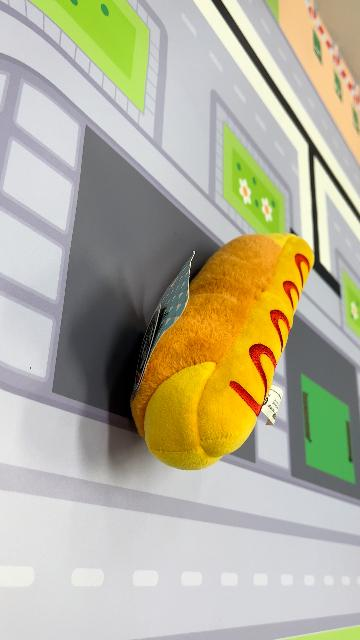hotdog: (130, 232, 316, 472)
